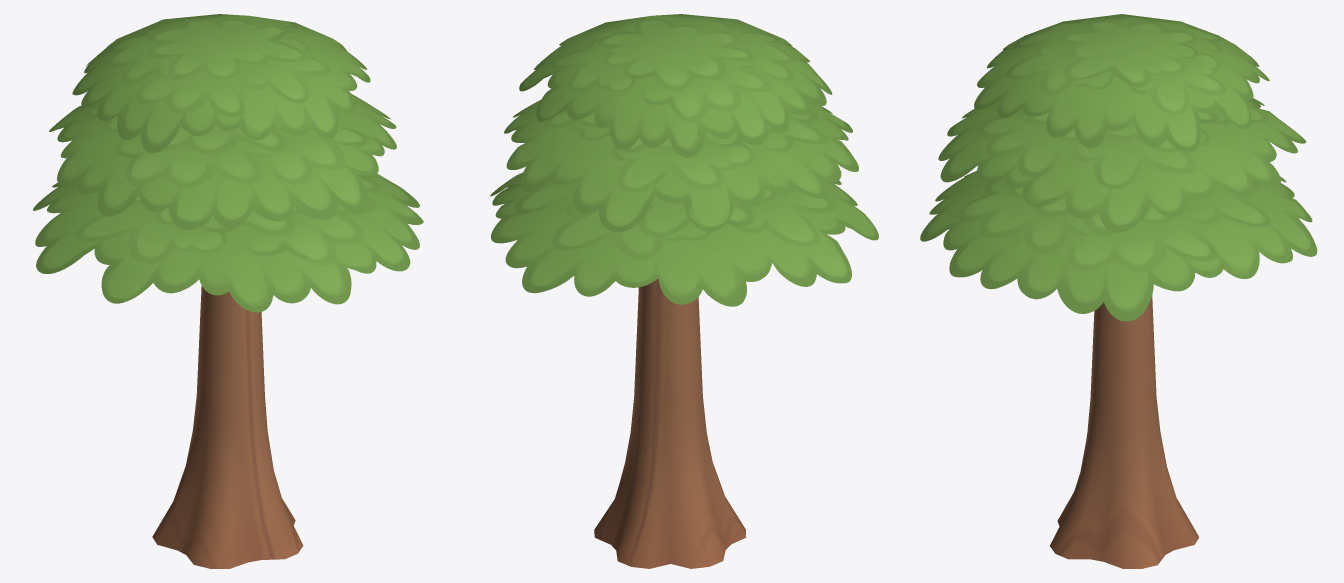
The model's file is elyseTree_3.fbx.
3 renders of one model, left to right at view 1: azimuth 30°, elevation 25°; view 2: azimuth 150°, elevation 25°; view 3: azimuth 270°, elevation 25°, orthographic.
Parts seen in each view (by area): view 1: foliage_lowP.002, trunk_lowP.002; view 2: foliage_lowP.002, trunk_lowP.002; view 3: foliage_lowP.002, trunk_lowP.002.
Part boxes in pixels (bbox=[...]): foliage_lowP.002: bbox=[33, 14, 423, 312]; trunk_lowP.002: bbox=[152, 286, 303, 568]; foliage_lowP.002: bbox=[490, 14, 878, 306]; trunk_lowP.002: bbox=[594, 278, 746, 568]; foliage_lowP.002: bbox=[920, 14, 1317, 321]; trunk_lowP.002: bbox=[1050, 295, 1199, 568].
Bounding box in the file's own units: 134 × 175 × 134.
Materials: 2 (2 with a texture image).
